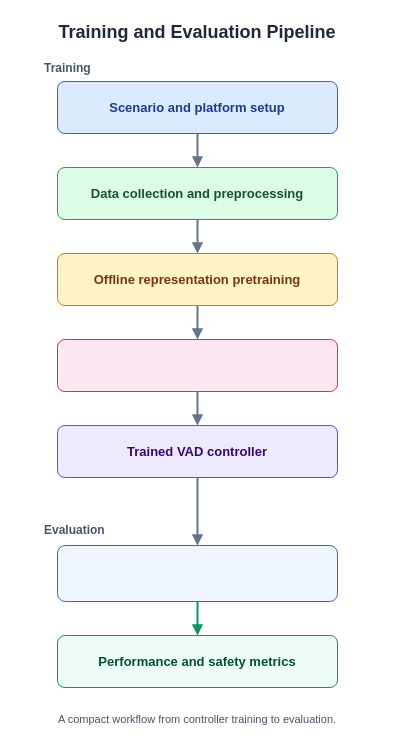
The diagram is 394 pixels wide and 748 high, and some of its shapes have lost their labels. The shapes that lost their labels are listed below. From the top down, each one's centre as x and y in pixels, then its label:
At point (197, 365): "Online actor-critic learning".
At point (197, 573): "Comparative, robustness, and ablation tests".
